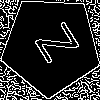Z: (26, 20, 80, 72)
